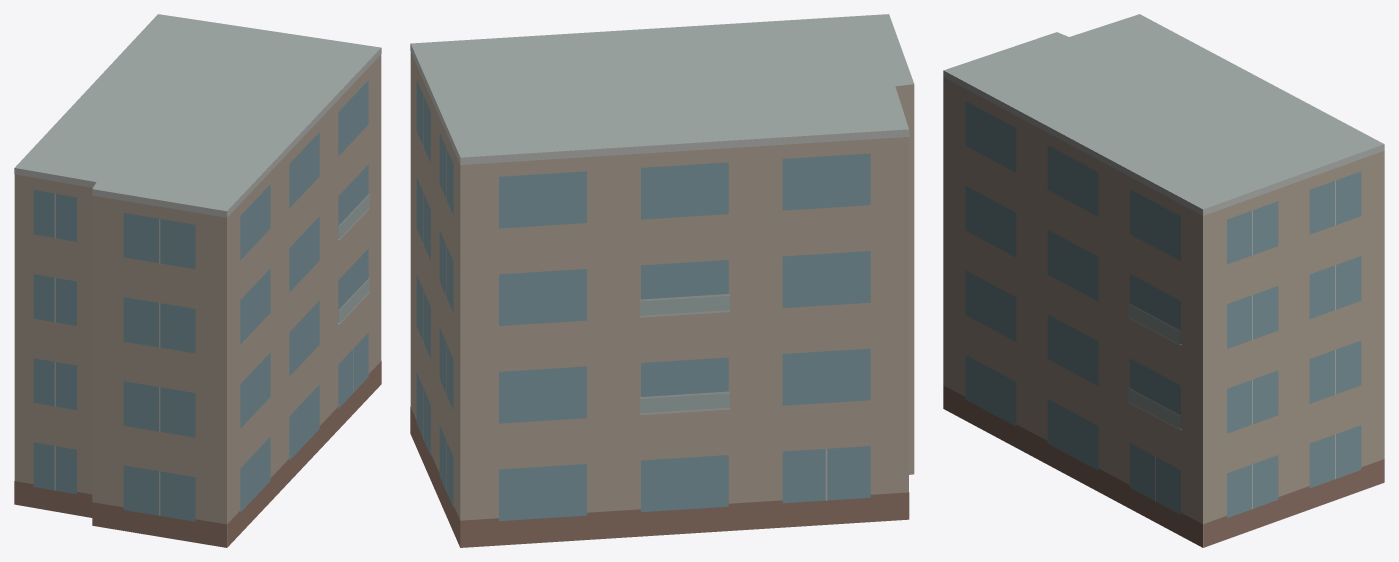
Rendered from survey-upis-32618589.glb.
3 views of the same model, side by side, from view 1: azimuth 30°, elevation 25°; view 2: azimuth 150°, elevation 25°; view 3: azimuth 270°, elevation 25° (orthographic). The views are drawn at different scales.
Parts seen in each view (by area): view 1: survey-upis-32618589.tmp; view 2: survey-upis-32618589.tmp; view 3: survey-upis-32618589.tmp.
Part boxes in pixels (left/top/right/bottom): survey-upis-32618589.tmp: left=14, top=14, right=381, bottom=547; survey-upis-32618589.tmp: left=410, top=14, right=914, bottom=547; survey-upis-32618589.tmp: left=943, top=14, right=1384, bottom=547.
Bounding box in the file's own units: 15.87 × 12.8 × 15.13.
